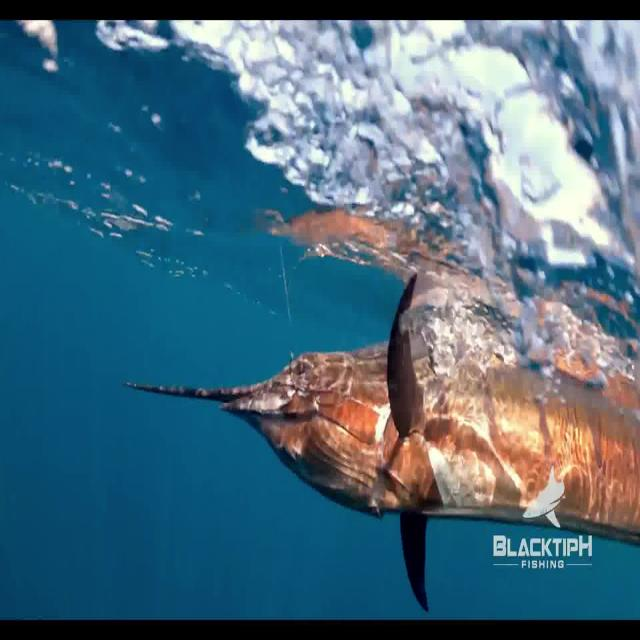Sail Fish: (121, 268, 640, 612)
